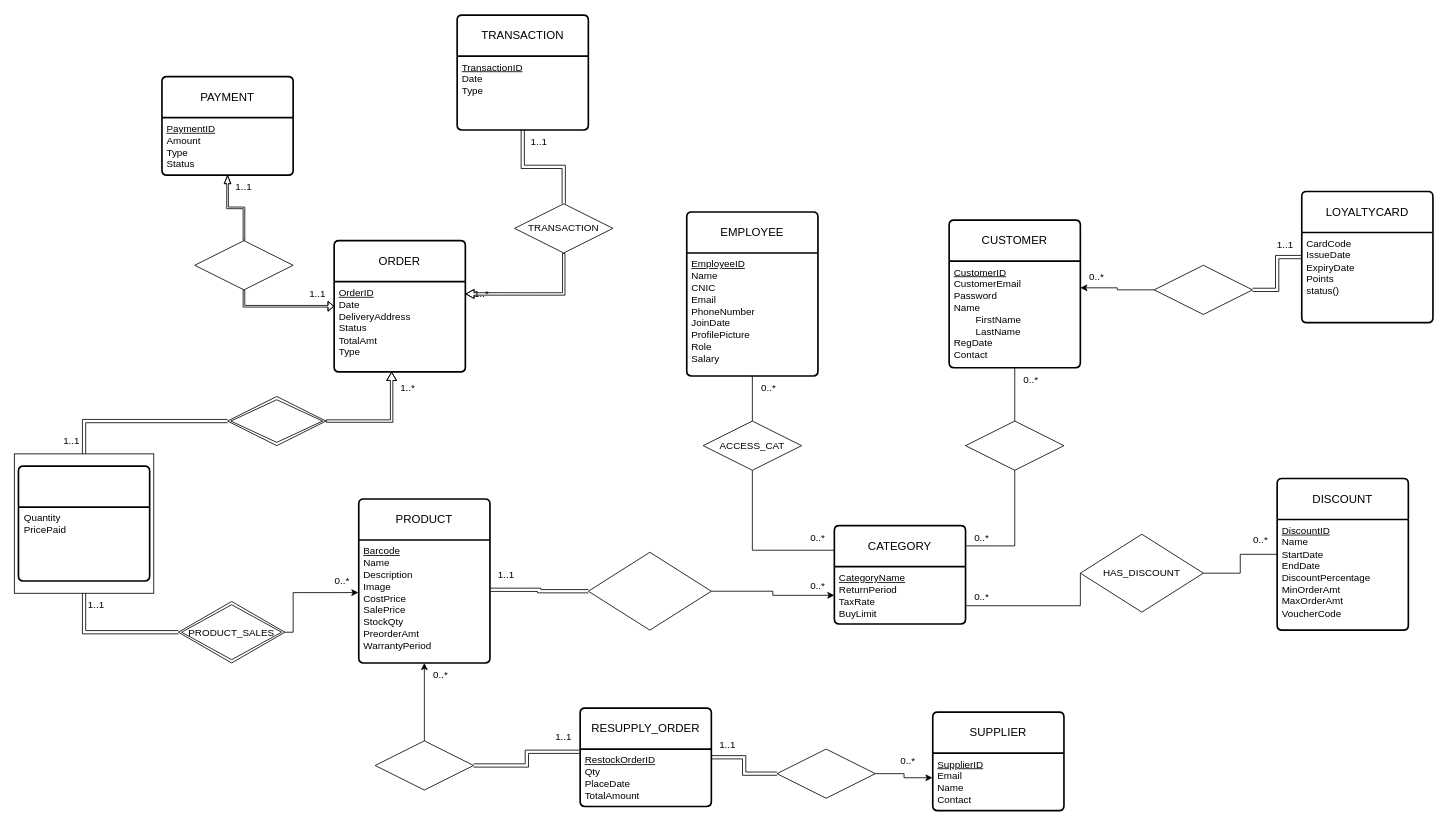
The diagram is 1448 pixels wide and 825 high, and some of its shapes have lost their labels. Each missing label, with the centre of its shape:
BROWSE_CAT: [1014,445]
CUSTOMER_CARD: [1203,289]
FROM_SUPPLIER: [825,773]
ORDER_ITEMS: [83,523]
PRODUCT_CATEGORY: [649,590]
RESUPPLY: [424,765]
SALE_INFO: [276,421]
SALE_PAYMENT: [243,265]
